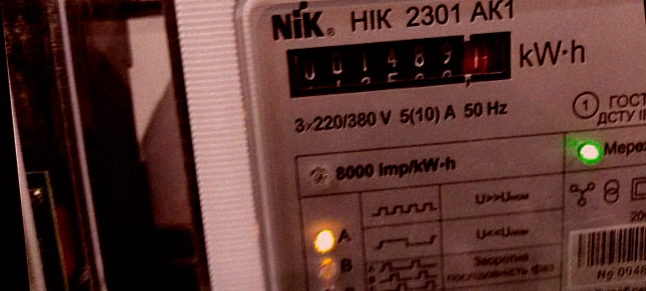0: (327, 49, 345, 75), (300, 55, 317, 82)
1: (355, 45, 372, 75), (467, 40, 482, 71)
4: (382, 43, 401, 70)
8: (408, 40, 428, 69)
9: (437, 40, 455, 66)
screen: (269, 14, 532, 116)
